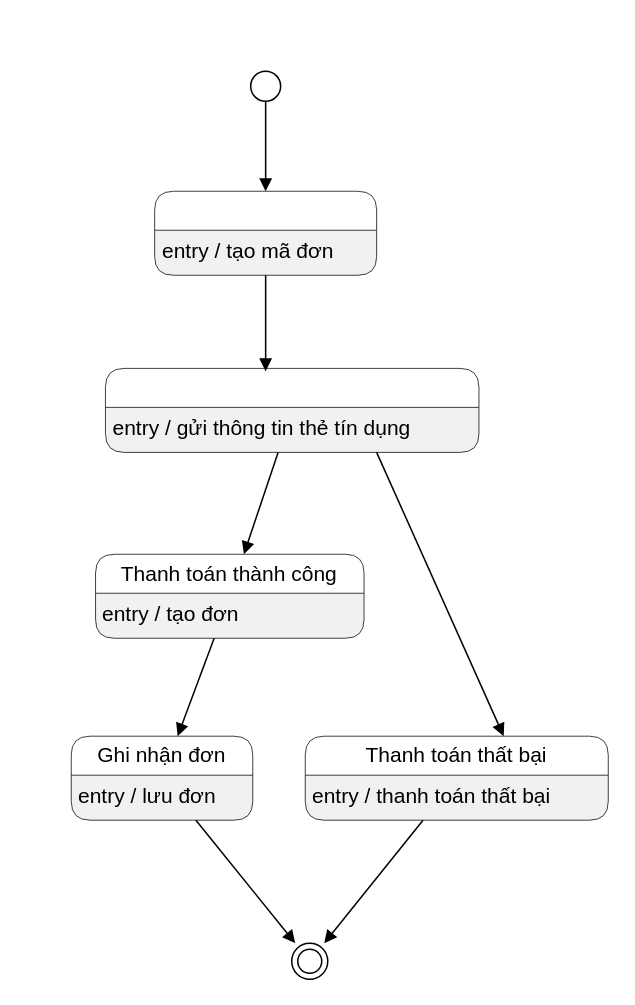
This 635x1005 diagram has some shape labels left out. The shapes that lost their labels are listed below. From the top down, each one's box as (x1, y1, x2, y2) in pixels, then its label:
(154, 190, 376, 275): Khởi tạo đơn hàng
(104, 367, 479, 452): Chờ thanh toán
